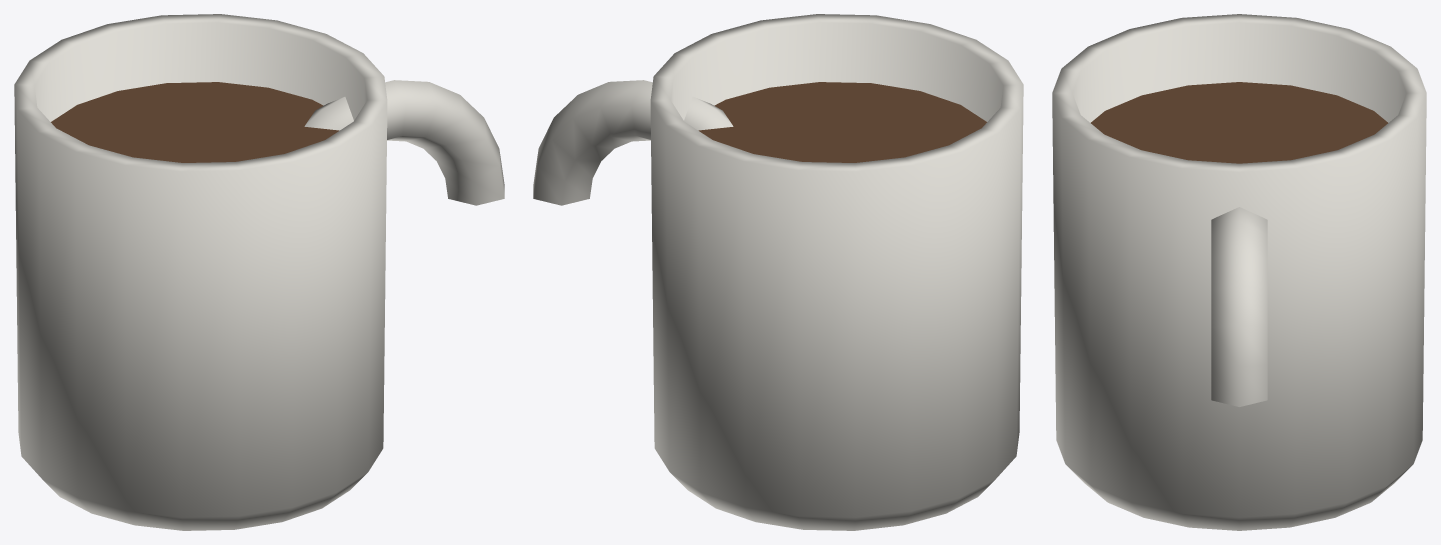
The model's file is Garage_Mug.glb.
3 views of the same model, side by side, from view 1: azimuth 30°, elevation 25°; view 2: azimuth 150°, elevation 25°; view 3: azimuth 270°, elevation 25° (orthographic).
Parts seen in each view (by area): view 1: Garage_Mug; view 2: Garage_Mug; view 3: Garage_Mug.
Boxes of the visible parts, x1,y1,x2,y2 form: Garage_Mug: [14, 14, 504, 530]; Garage_Mug: [533, 14, 1023, 530]; Garage_Mug: [1052, 14, 1426, 530].
Size of the model in its own units: 0.132 by 0.1 by 0.092.
